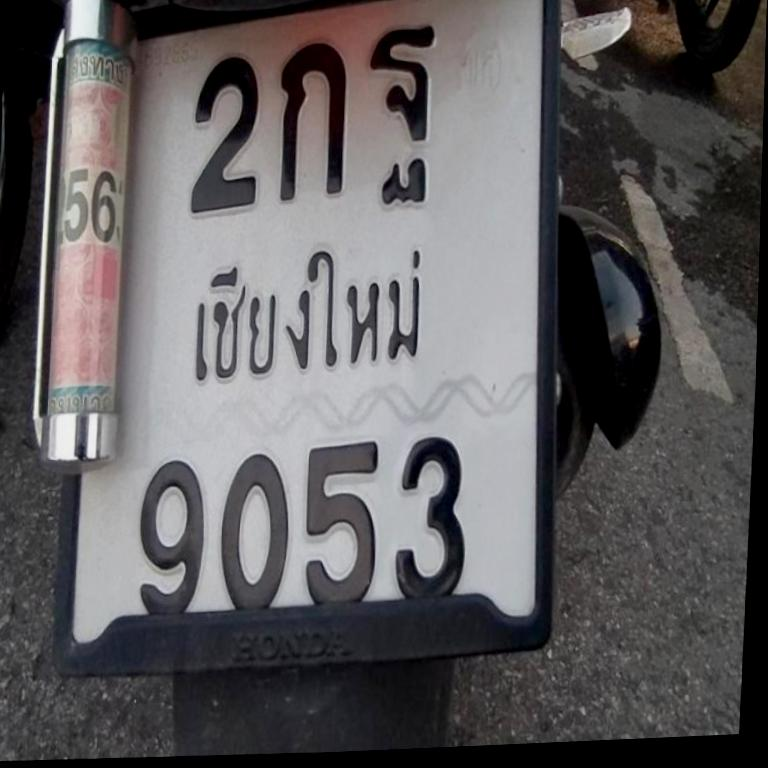license plate: (39, 0, 571, 683)
